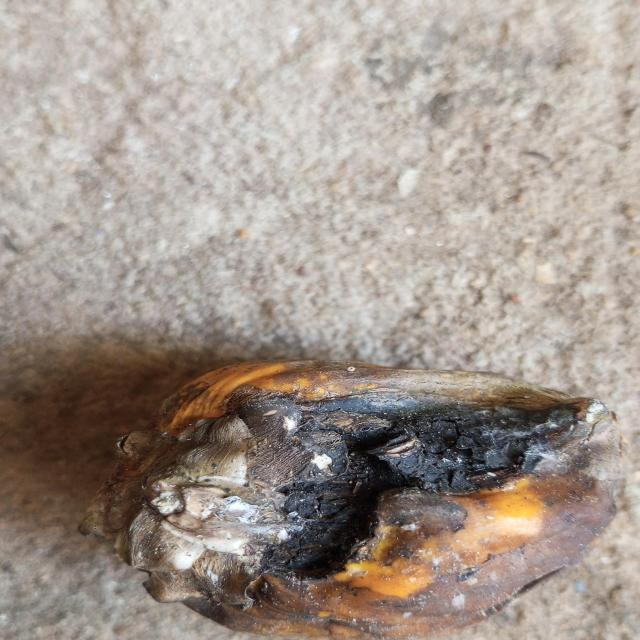damaged: (90, 361, 622, 640)
